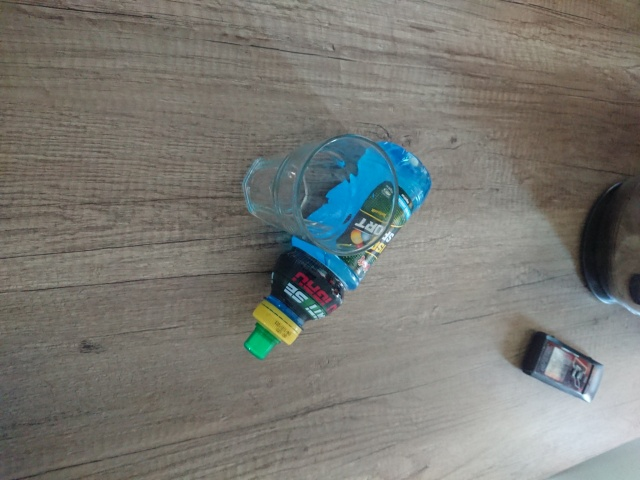Vindi Iso Sport Forest Strawberries 500mL: (241, 136, 434, 362)
